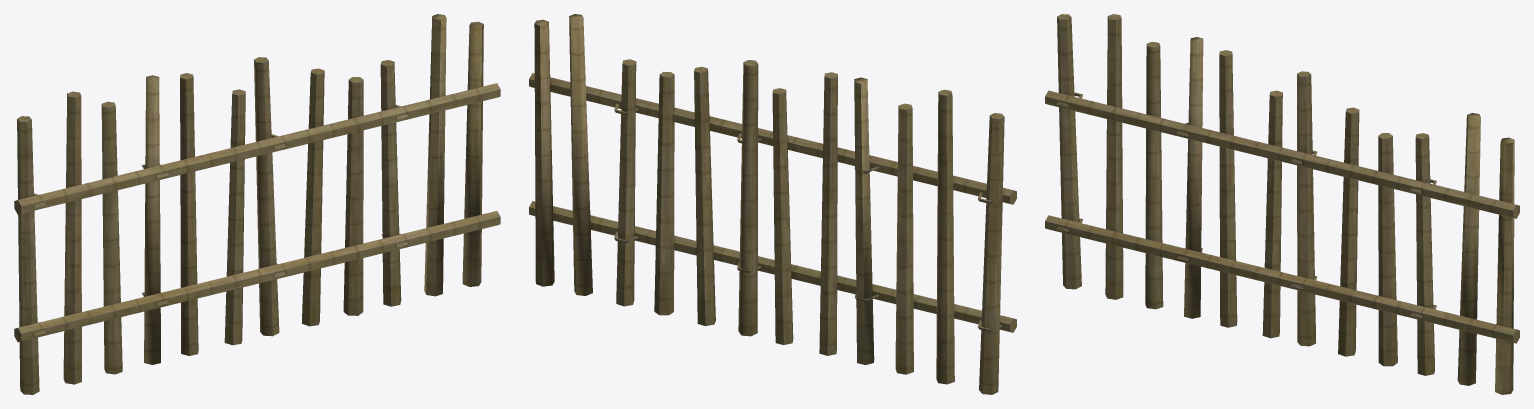
File: Bamboo_Fence.glb
The picture shows the model from 3 angles, left to right: view 1: azimuth 30°, elevation 25°; view 2: azimuth 150°, elevation 25°; view 3: azimuth 330°, elevation 25°; orthographic projection. The views are drawn at different scales.
Visible parts, largest first — view 1: Bamboo_Fence; view 2: Bamboo_Fence; view 3: Bamboo_Fence.
Boxes of the visible parts, x1,y1,x2,y2 form: Bamboo_Fence: (14,14,500,394); Bamboo_Fence: (529,14,1016,394); Bamboo_Fence: (1045,14,1519,394).
Size of the model in its own units: 2.2 by 1.26 by 0.1355.
Materials: 1 (1 with a texture image).
